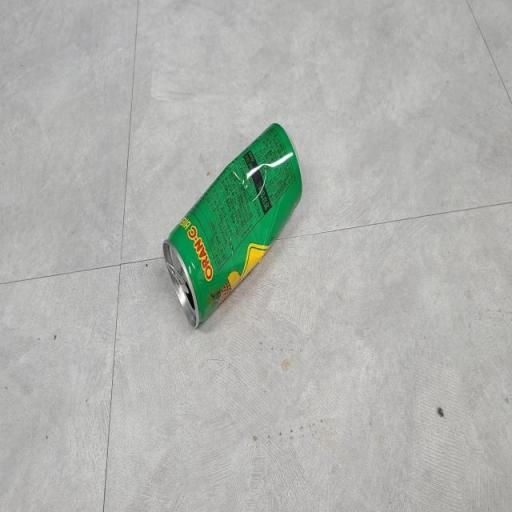metal: (148, 87, 325, 372)
